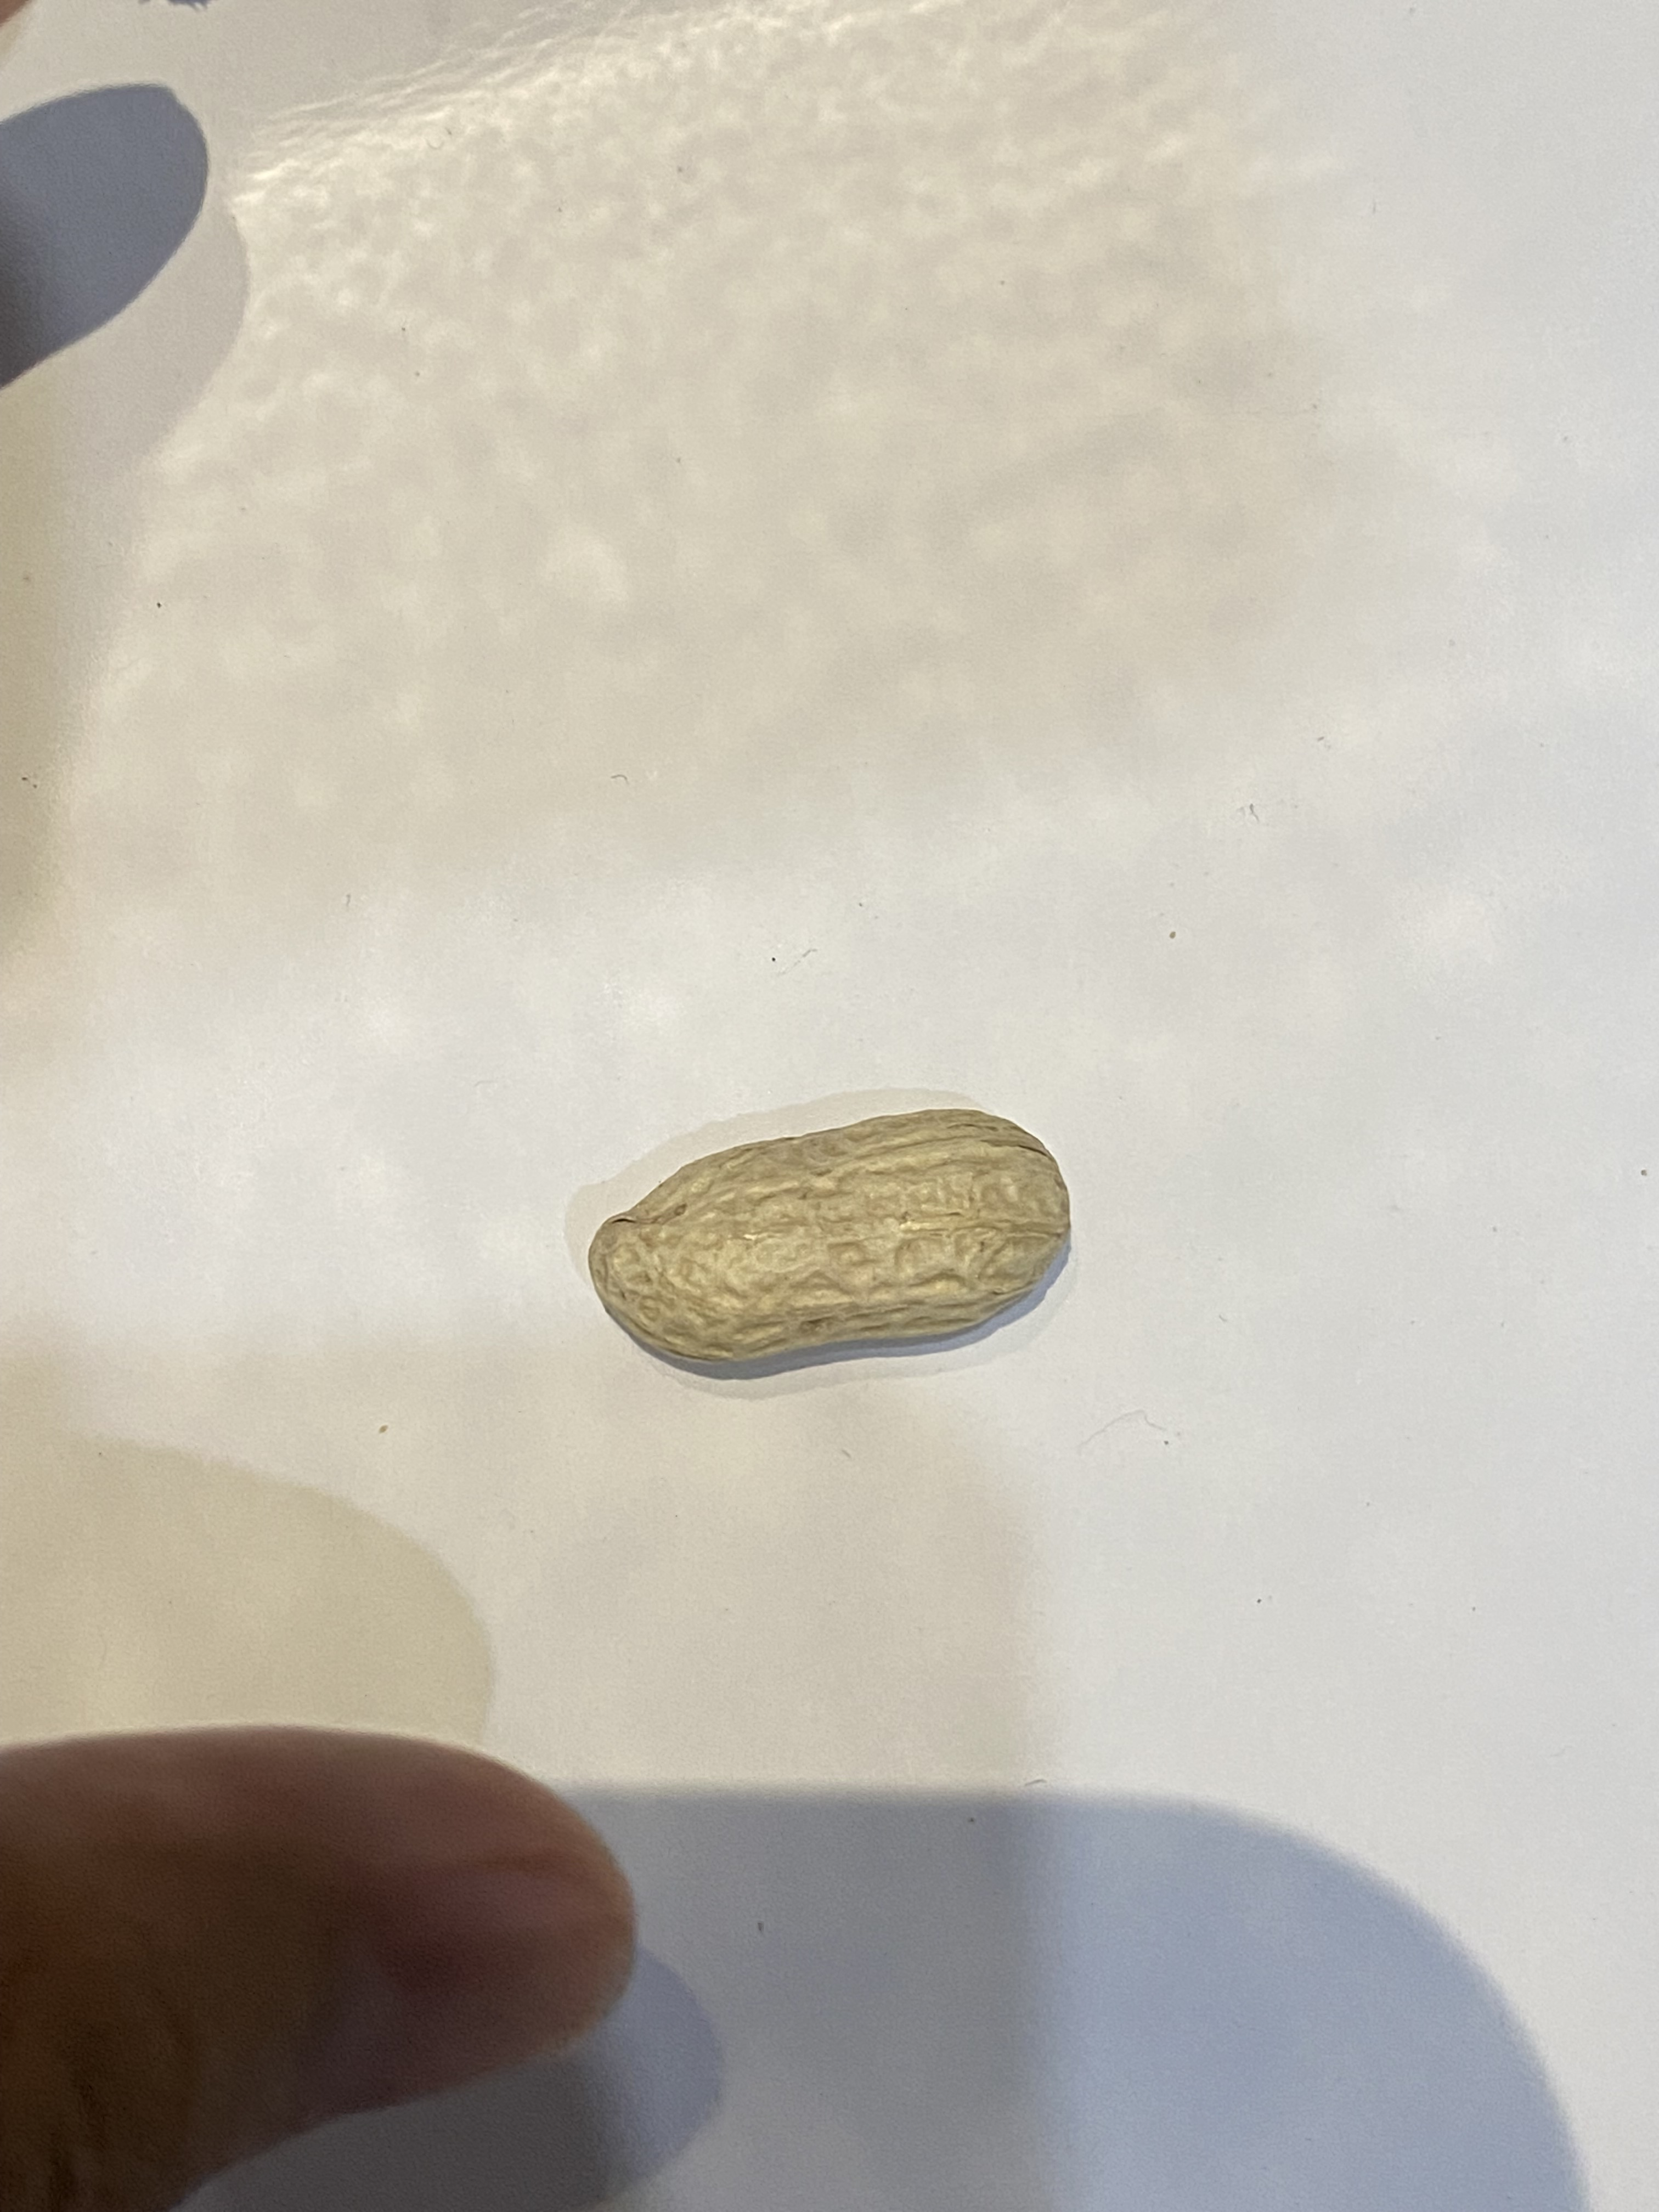kacang2: (570, 1106, 1080, 1376)
